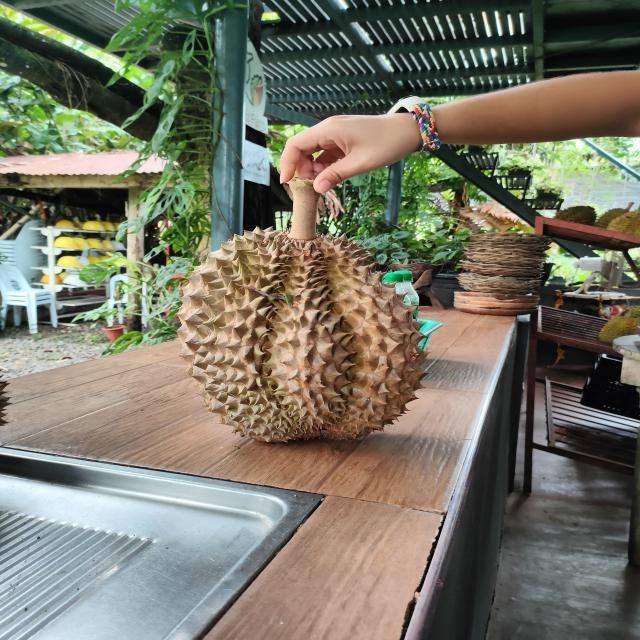mature: (178, 229, 425, 442)
